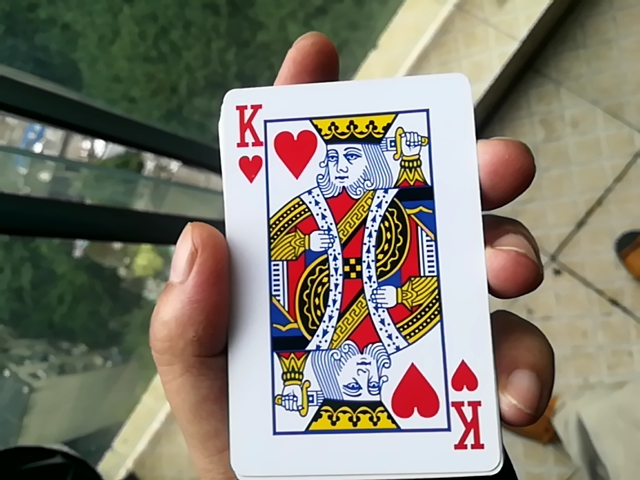hx k: (214, 61, 490, 478)
